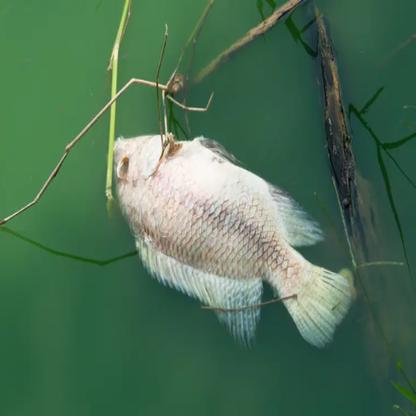deceased fish: (107, 126, 353, 352)
